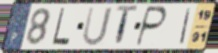8: (24, 7, 51, 46)
I: (178, 8, 192, 46)
L: (50, 7, 71, 46)
P: (134, 5, 169, 48)
T: (114, 5, 139, 49)
U: (81, 6, 114, 47)
